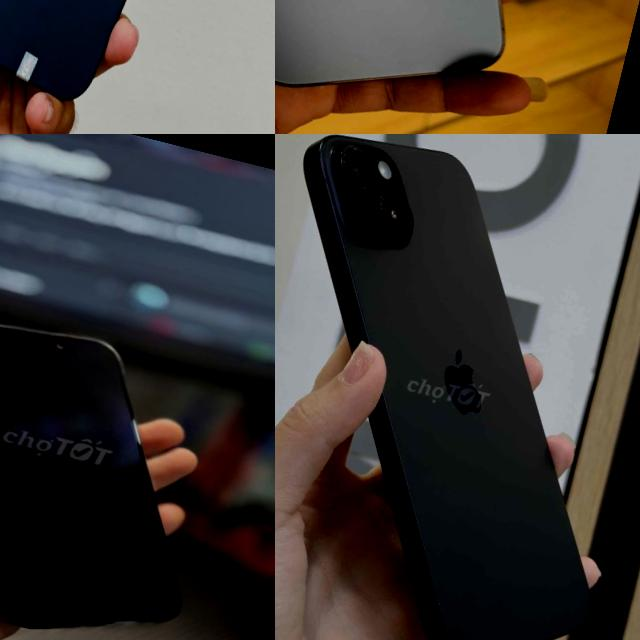gen_12_13: (275, 0, 600, 134)
gen_15: (275, 134, 640, 640), (0, 266, 262, 640), (0, 0, 267, 134)
